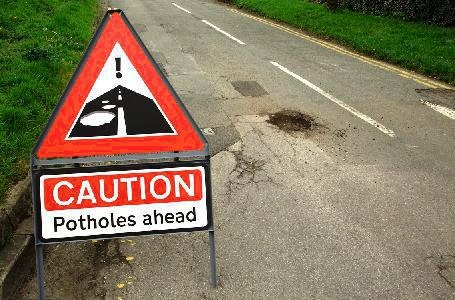pothole: (264, 107, 321, 136)
